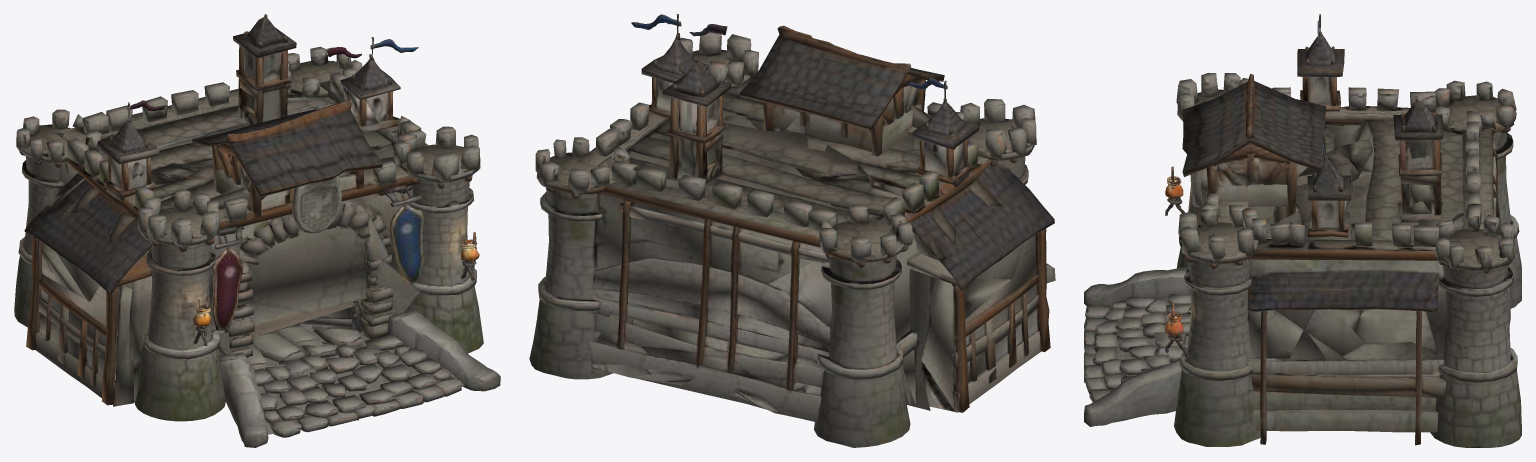
Rendered from praca_sede.glb.
3 views of the same model, side by side, from view 1: azimuth 30°, elevation 25°; view 2: azimuth 150°, elevation 25°; view 3: azimuth 270°, elevation 25° (orthographic). The views are drawn at different scales.
Parts seen in each view (by area): view 1: mesh_node; view 2: mesh_node; view 3: mesh_node.
Boxes of the visible parts, <box> form: mesh_node: <box>14,14,500,447</box>; mesh_node: <box>529,14,1055,447</box>; mesh_node: <box>1084,14,1521,447</box>.
Bounding box in the file's own units: 1 × 0.7324 × 1.
1 material, 1 textured.
